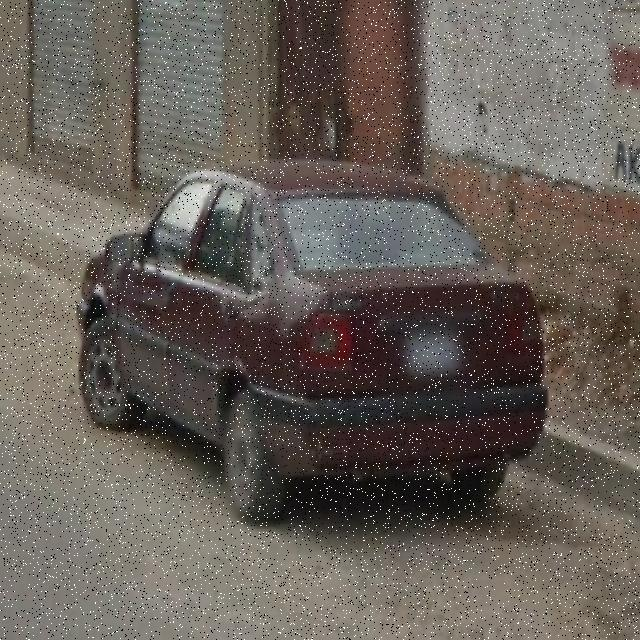cars: (74, 151, 550, 525)
